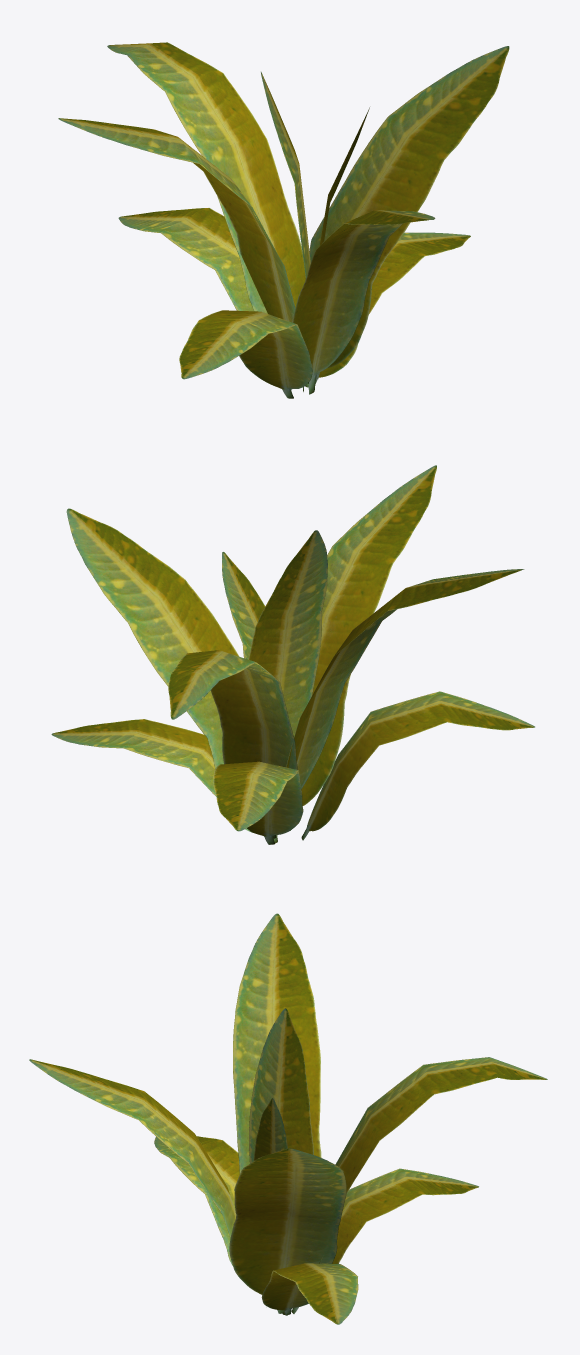
File: Plant_3.fbx
3 renders of one model, top to bottom at view 1: azimuth 30°, elevation 25°; view 2: azimuth 150°, elevation 25°; view 3: azimuth 270°, elevation 25°, orthographic. The views are drawn at different scales.
Visible parts, largest first — view 1: Plant alpha 3; view 2: Plant alpha 3; view 3: Plant alpha 3.
Part boxes in pixels (box(x1,y1,x2,y2)): Plant alpha 3: box(58, 42, 509, 398); Plant alpha 3: box(51, 465, 534, 844); Plant alpha 3: box(29, 913, 547, 1324).
Size of the model in its own units: 143 by 98.2 by 160.
1 material, 1 textured.
